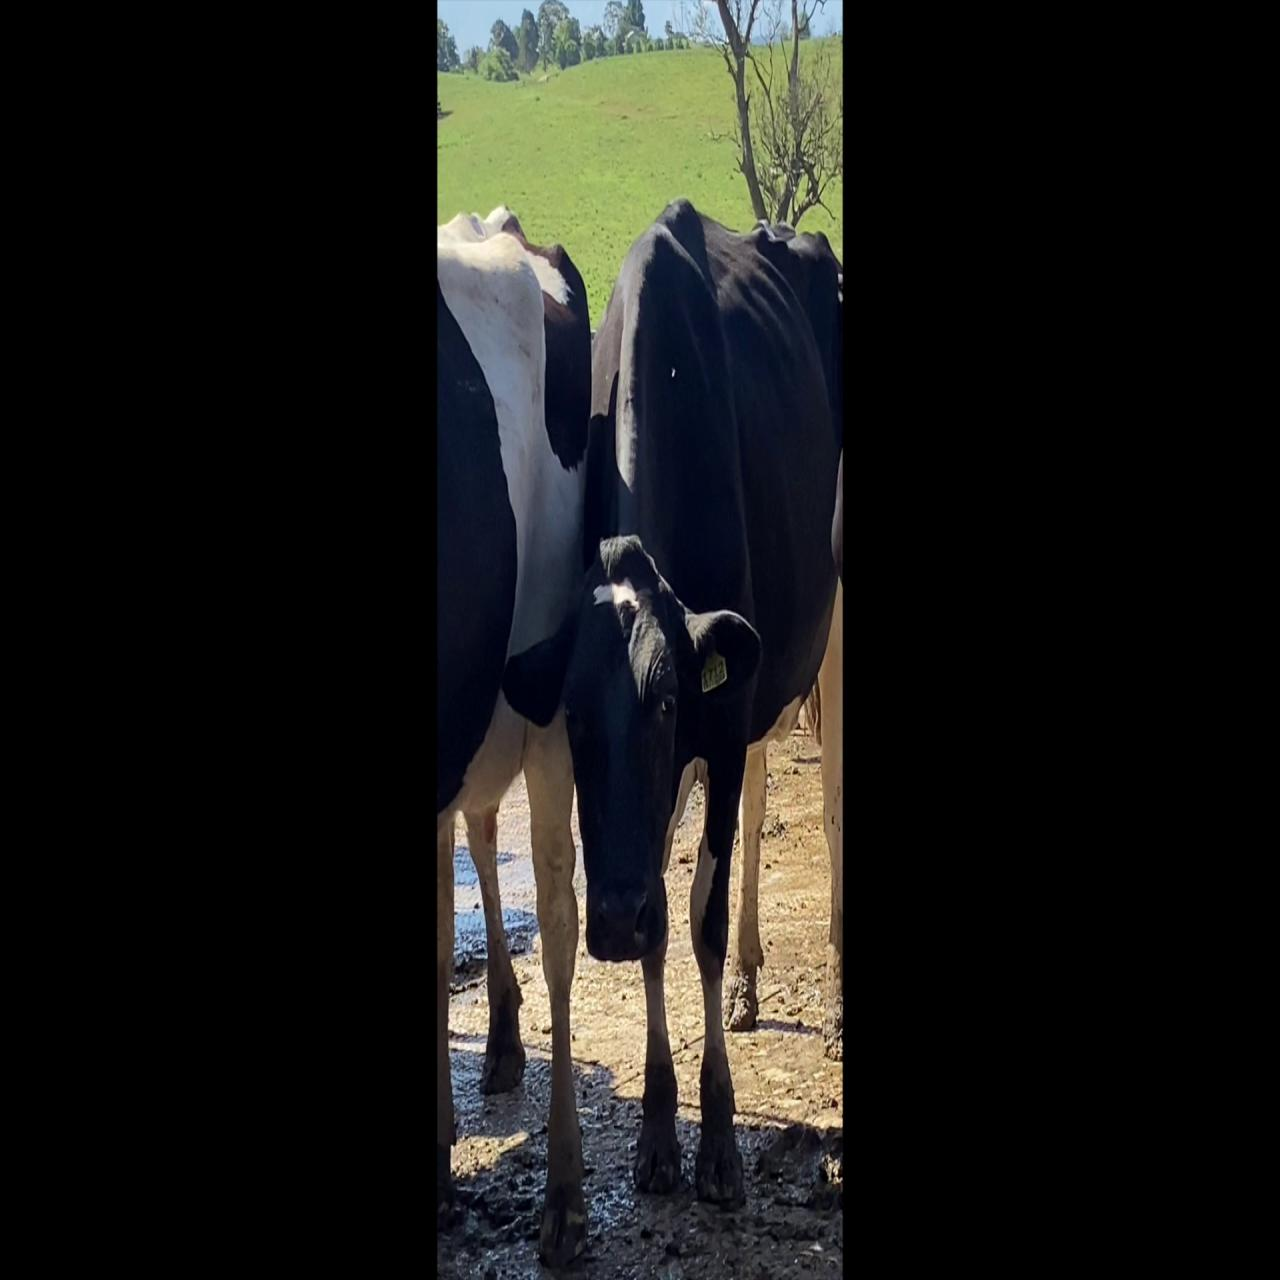Face: (571, 572, 674, 956)
